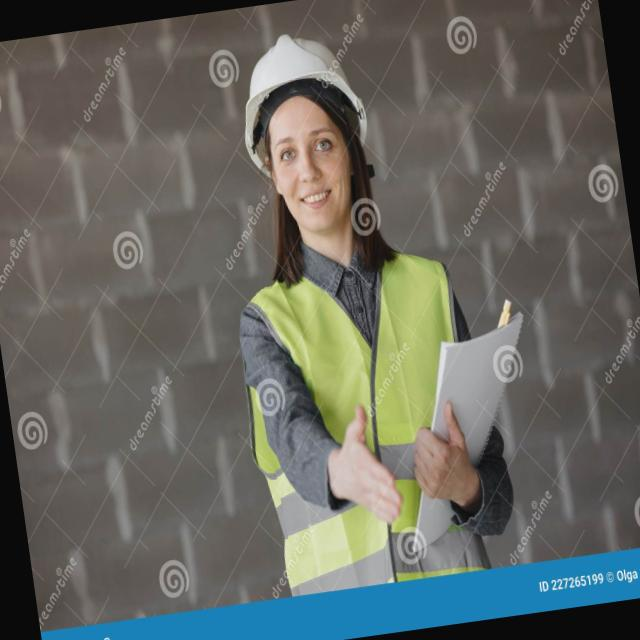helmet: (230, 18, 374, 178)
no-goggles: (266, 124, 355, 176)
vest: (228, 237, 501, 608)
